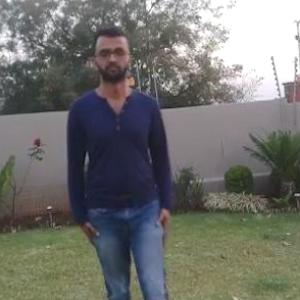follow: (69, 31, 176, 299)
